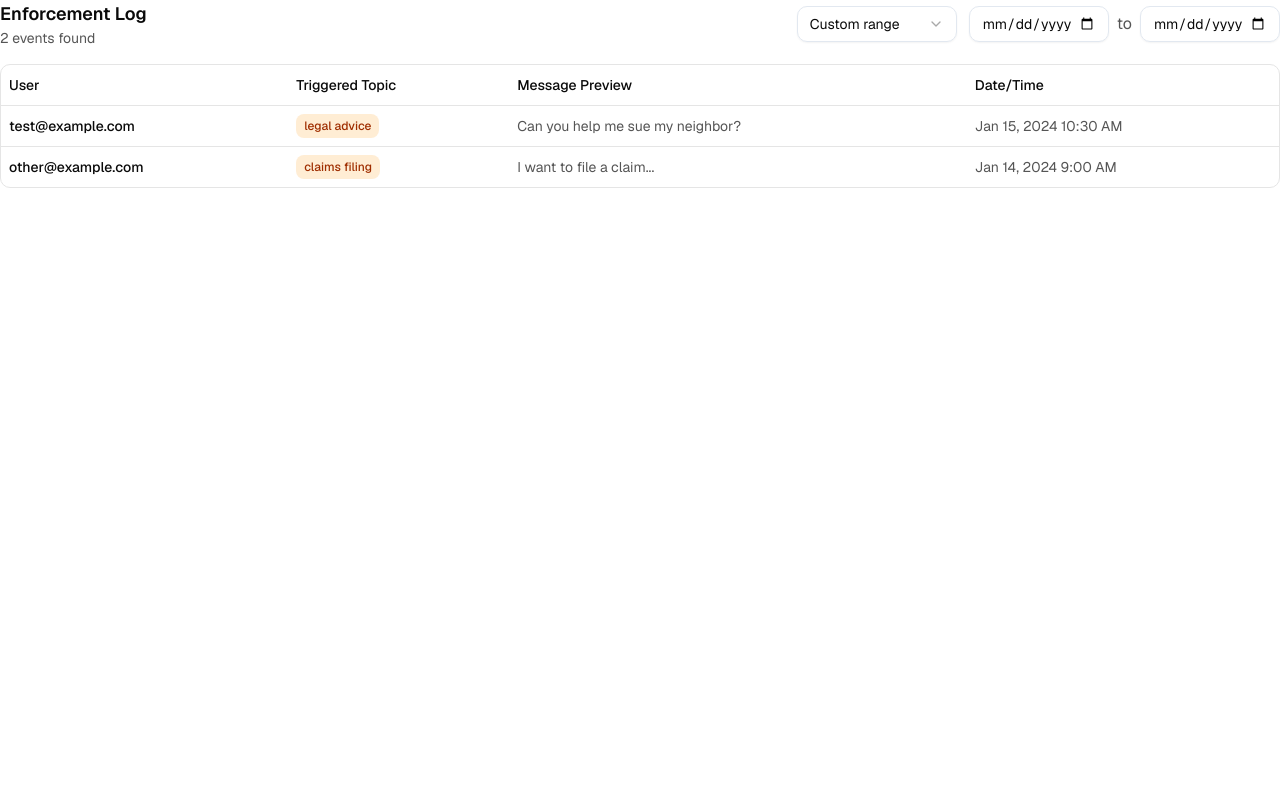
GuardrailEnforcementLog › row click to view details (AC-19.2.5) › opens detail dialog when row is clicked
The width and height of the screenshot is (1280, 800).
# Click the first row
Click the row with test id "log-row-log-1" at [640, 126], box [1,105,1279,146]
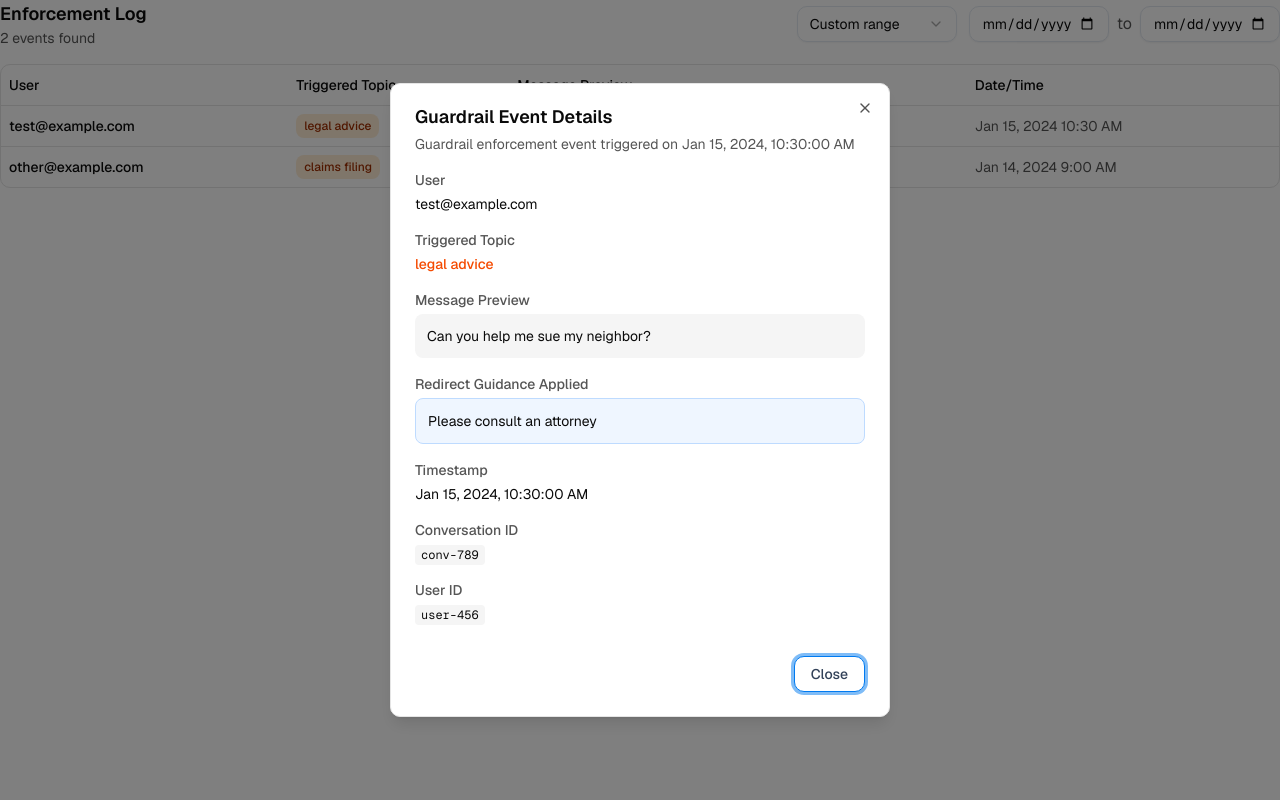
Expected: the heading "Guardrail Event Details" is shown, [415,105,612,128]
